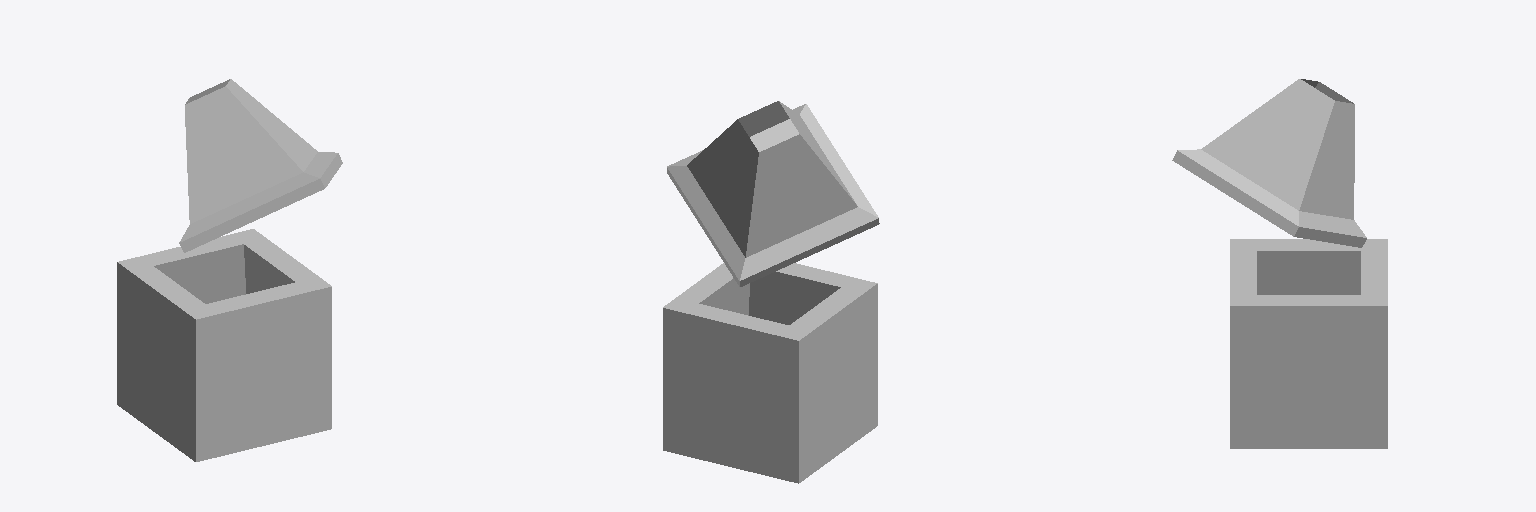
The model's file is AnimatedBox_000086.obj.
3 renders of one model, left to right at view 1: azimuth 30°, elevation 25°; view 2: azimuth 150°, elevation 25°; view 3: azimuth 270°, elevation 25°, orthographic.
Visible parts, largest first — view 1: Cube, Cube.001; view 2: Cube, Cube.001; view 3: Cube, Cube.001.
Boxes of the visible parts, <box> form: Cube: <box>117,229,331,461</box>; Cube.001: <box>179,79,342,252</box>; Cube: <box>663,263,877,483</box>; Cube.001: <box>667,101,879,286</box>; Cube: <box>1230,239,1387,448</box>; Cube.001: <box>1172,79,1366,247</box>.
Bounding box in the file's own units: 2.76 × 4.69 × 2.74.